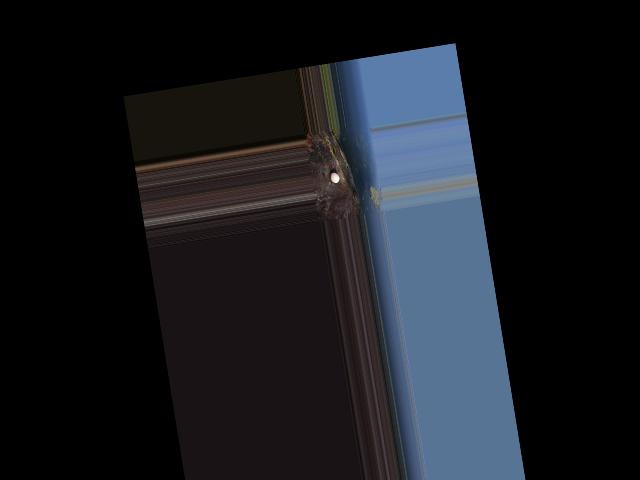egg: (329, 172, 340, 184)
